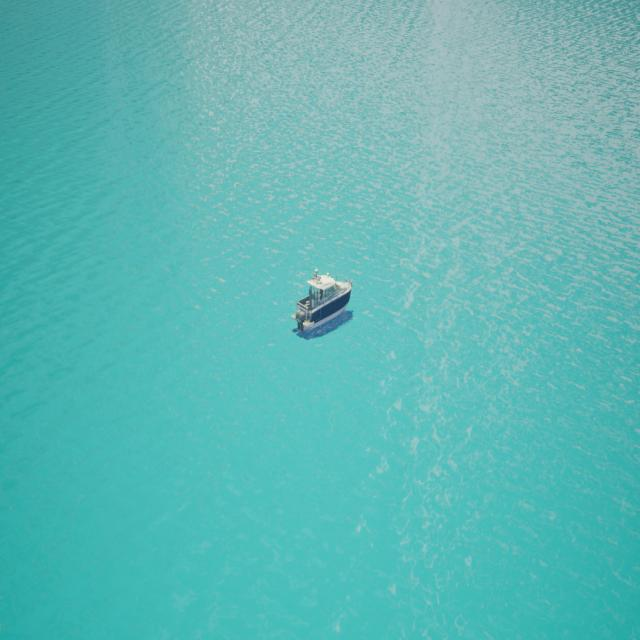ship: (294, 272, 354, 338)
